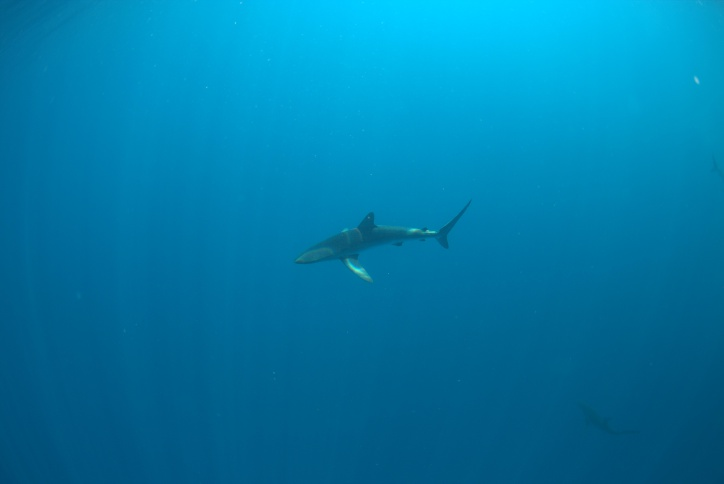Sedoso: (292, 191, 488, 285)
